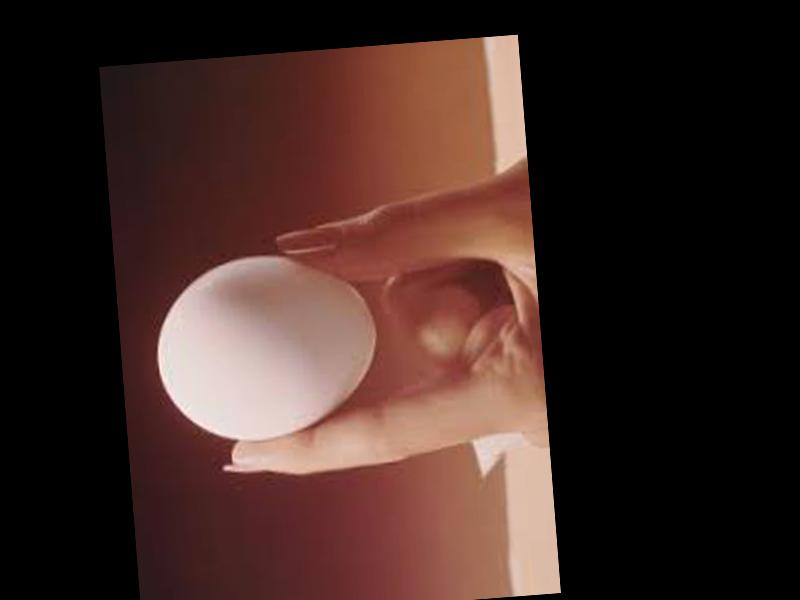Eggs: (149, 246, 384, 449)
